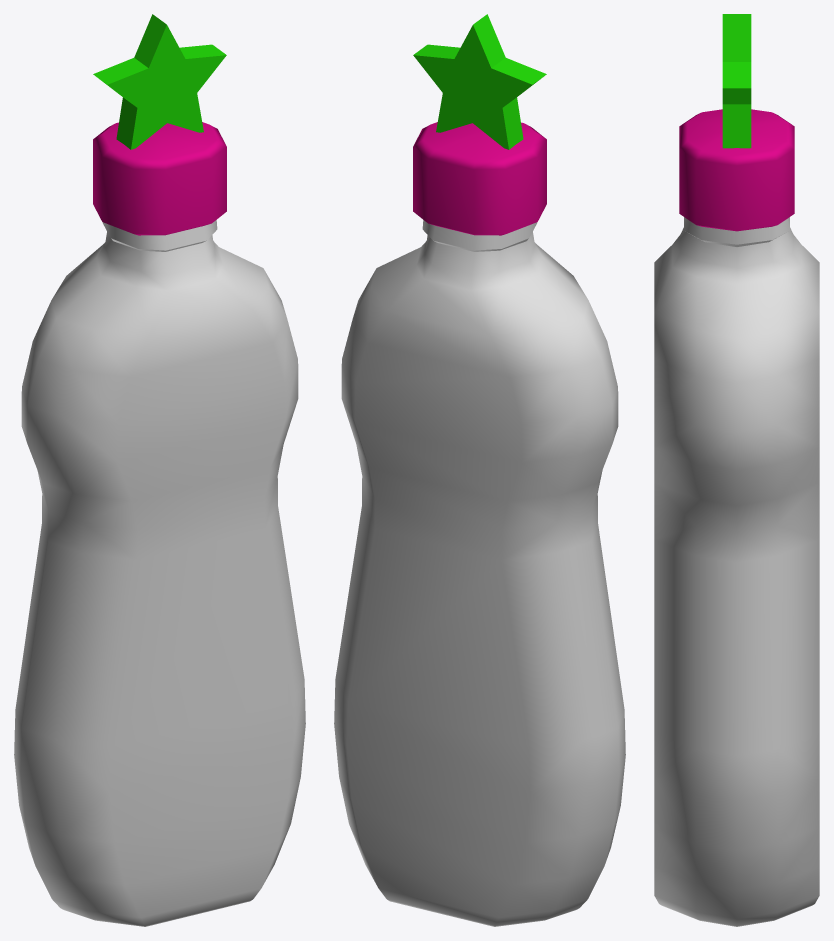
File: Bottle.fbx
The picture shows the model from 3 angles, left to right: view 1: azimuth 30°, elevation 25°; view 2: azimuth 150°, elevation 25°; view 3: azimuth 270°, elevation 25°; orthographic projection.
Parts seen in each view (by area): view 1: Bottle; view 2: Bottle; view 3: Bottle.
Part boxes in pixels (<box>): Bottle: <box>14,14,305,926</box>; Bottle: <box>334,14,625,926</box>; Bottle: <box>654,14,819,926</box>.
Size of the model in its own units: 266 by 793 by 137.
